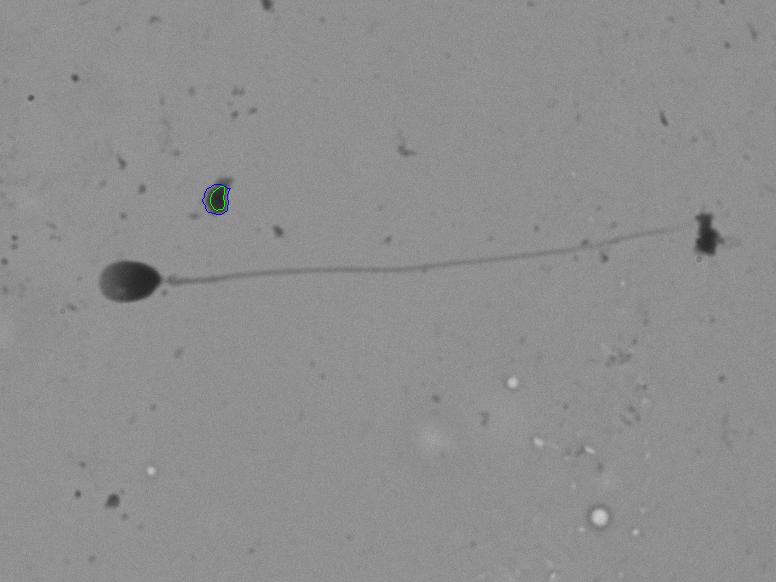Normal: (58, 213, 697, 362)
